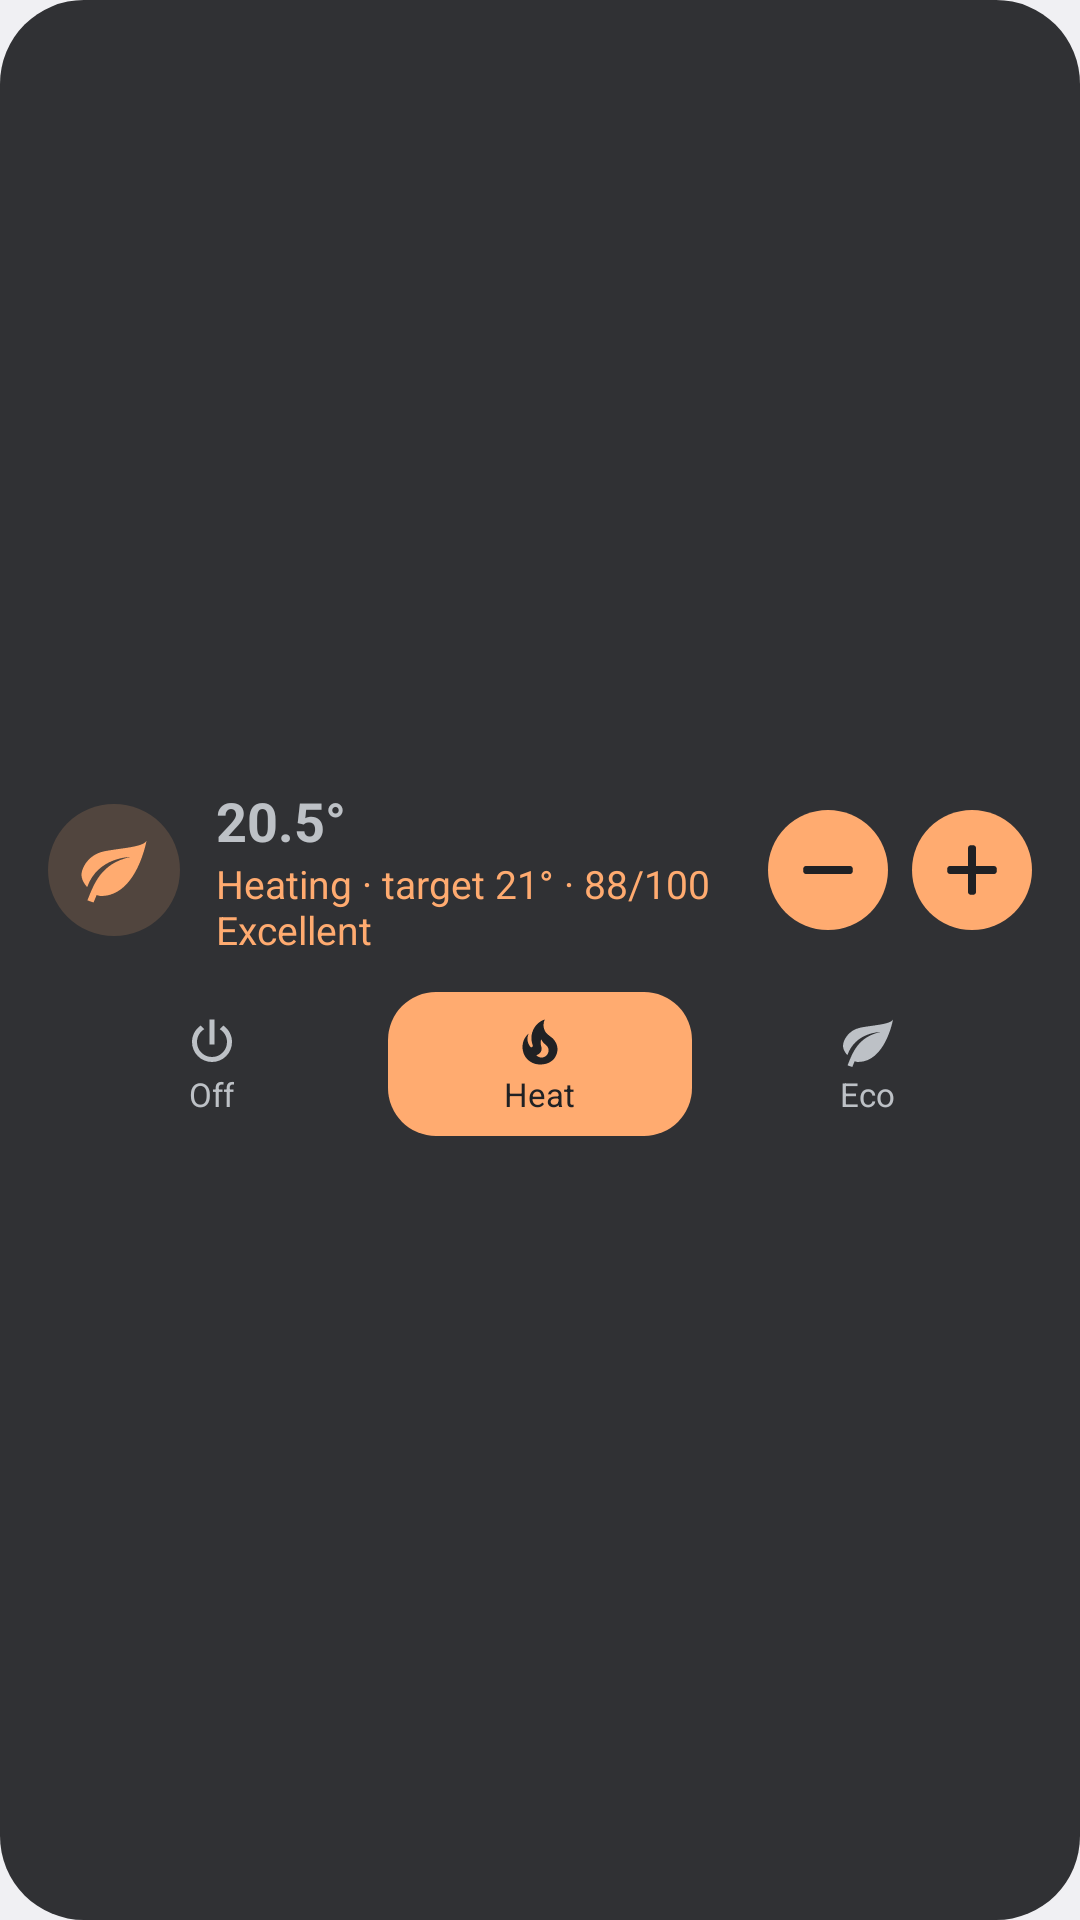

Icon bounding boxes for this 1080 x 1920 phone screenshot, format (x1, y1, x2, y2):
fire: (522, 1019, 558, 1065)
leaf: (81, 841, 147, 903), (843, 1020, 893, 1067)
plus: (947, 845, 997, 895)
power: (192, 1019, 232, 1062)
